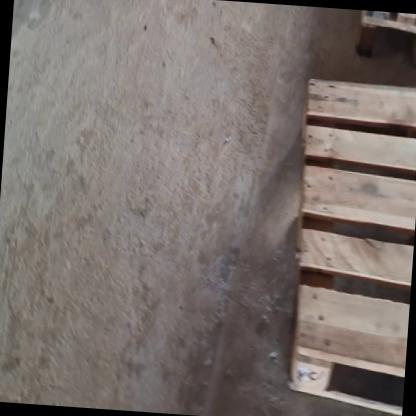BoxFace: (285, 79, 416, 416), (355, 11, 416, 64)
